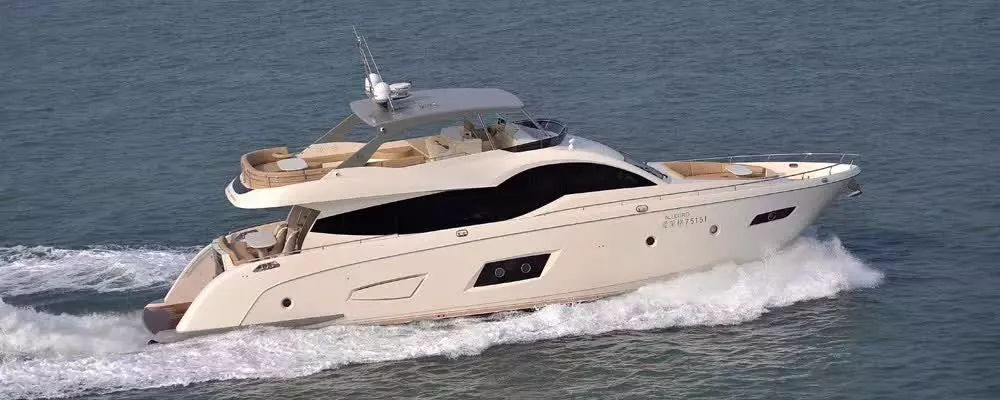yacht: (121, 41, 866, 345)
